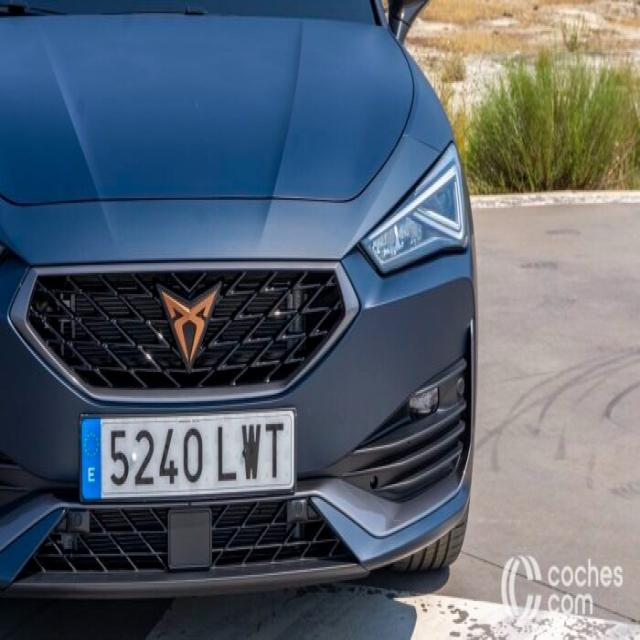license_plate-34Td: (80, 409, 294, 499)
